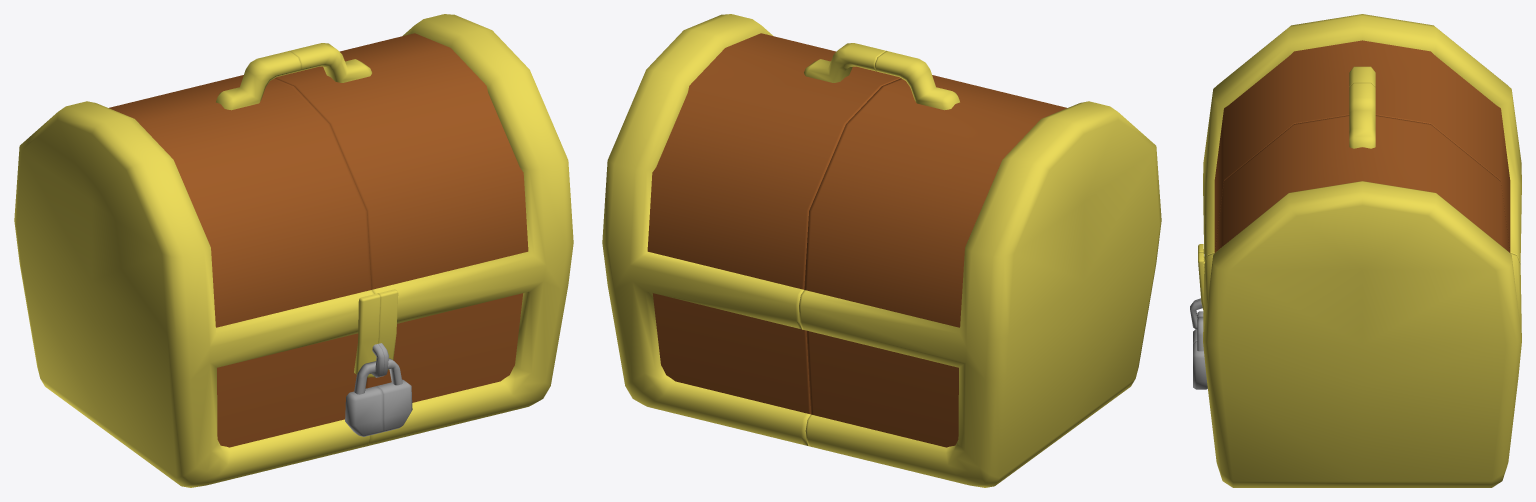
File: SM_TreasureChest_01a.fbx
The picture shows the model from 3 angles, left to right: view 1: azimuth 30°, elevation 25°; view 2: azimuth 150°, elevation 25°; view 3: azimuth 270°, elevation 25°; orthographic projection. The views are drawn at different scales.
Parts seen in each view (by area): view 1: TreasureChest_02, TreasureChest_01; view 2: TreasureChest_02, TreasureChest_01; view 3: TreasureChest_01, TreasureChest_02.
Boxes of the visible parts, x1,y1,x2,y2 form: TreasureChest_02: (14, 51, 384, 487); TreasureChest_01: (275, 14, 573, 445); TreasureChest_02: (799, 51, 1161, 487); TreasureChest_01: (602, 14, 900, 445); TreasureChest_01: (1190, 82, 1521, 487); TreasureChest_02: (1190, 14, 1521, 343).
Size of the model in its own units: 35.64 by 28.83 by 26.67.
